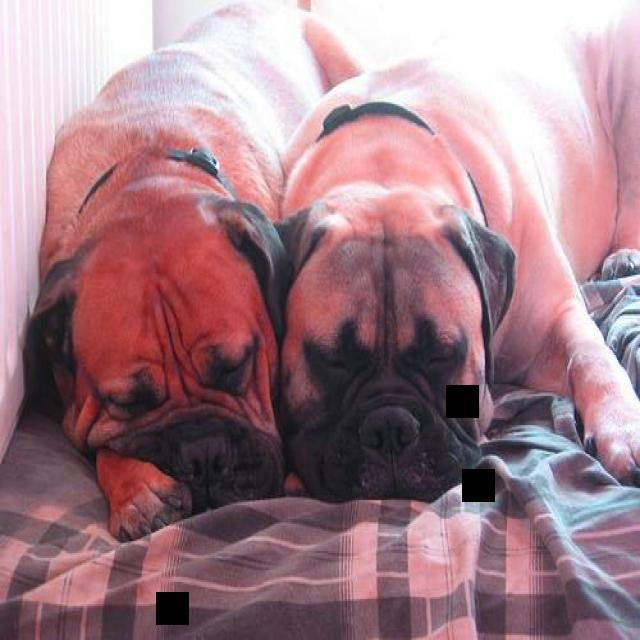adult_dog: (266, 11, 640, 508), (16, 2, 331, 551)
